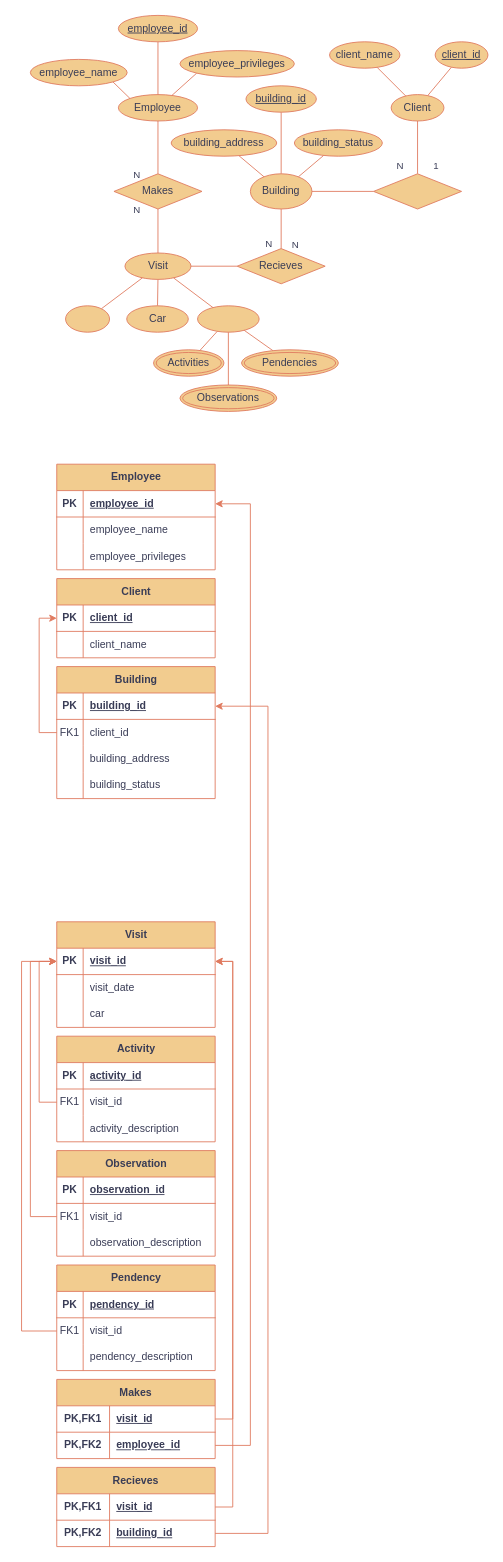
The diagram is 503 pixels wide and 1562 high, and some of its shapes have lost their labels. The shapes that lost their labels are listed below. From the top down, each one's centre as x and y in pixels, then its label:
[417,191]: Owns
[87,318]: date
[228,318]: Report
